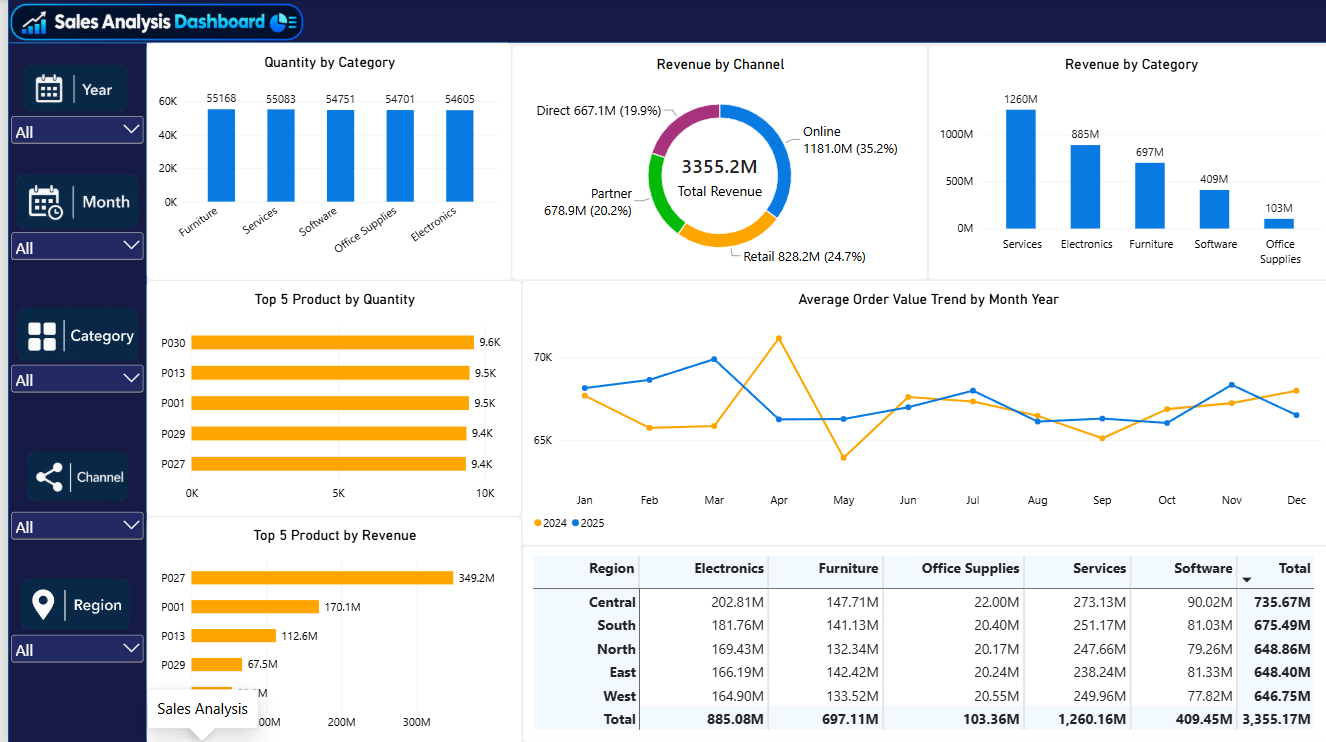

Layout of this report page (visuals, bound fields, positions):
{"tool":"powerbi","page":{"name":"Sales Analysis","canvas":[1920,1080],"ordinal":1},"visuals":[{"type":"shape","box":[0,64.1,200.9,1017],"z":0},{"type":"shape","box":[0,0,1920.1,63.3],"z":1000},{"type":"columnChart","title":" Revenue by Category","fields":{"Y":["Sales.Total Revenue"],"Category":["finance products.Category"]},"box":[1331.9,67,588.1,340.2],"z":2000},{"type":"donutChart","title":" Revenue by Channel","fields":{"Category":["finance sales.Channel"],"Y":["Sales.Total Revenue"]},"box":[729.3,67,602.6,340.2],"z":3000},{"type":"columnChart","title":" Quantity by Category","fields":{"Category":["finance products.Category"],"Y":["Sales.Total Quantity"]},"box":[200.9,63.3,528.4,343.8],"z":4000},{"type":"pivotTable","fields":{"Values":["Sales.Total Revenue"],"Rows":["finance regions.Region"],"Columns":["finance products.Category"]},"box":[743.8,790.8,1176.3,285.9],"z":5000},{"type":"barChart","title":"Top 5 Product by Quantity","fields":{"Y":["Sum(finance sales.Quantity)"],"Category":["finance products.Product_ID"]},"box":[200.9,407.2,542.9,342],"z":6000},{"type":"barChart","title":"Top 5 Product by Revenue","fields":{"Category":["finance products.Product_ID"],"Y":["Sales.Total Revenue"]},"box":[200.9,749.2,542.9,331.2],"z":7000},{"type":"lineChart","title":"Average Order Value Trend by Month Year","fields":{"Y":["Sales.Average Order Value"],"Category":["Calendar.Month"],"Series":["Calendar.Year"]},"box":[743.8,407.2,1176.3,383.6],"z":8000},{"type":"slicer","title":"     ","fields":{"Values":["finance sales.Channel"]},"box":[0,691.3,200.9,117.6],"z":9000},{"type":"slicer","title":"    ","fields":{"Values":["Calendar.Year"]},"box":[0,164.7,200.9,59.7],"z":10000},{"type":"slicer","title":"Month","fields":{"Values":["Calendar.Month"]},"box":[0,333,200.9,56.1],"z":11000},{"type":"slicer","title":"Category","fields":{"Values":["finance products.Category"]},"box":[0,524.8,200.9,54.3],"z":12000},{"type":"image","box":[0,653.3,200.9,74.2],"z":13000},{"type":"image","box":[0,94.1,195.4,70.6],"z":14000},{"type":"image","box":[0,251.5,200.9,81.4],"z":15000},{"type":"image","box":[0,445.2,200.9,79.6],"z":16000},{"type":"slicer","title":"     ","fields":{"Values":["finance regions.Region"]},"box":[0,915.7,200.9,54.3],"z":17000},{"type":"image","box":[0,837.9,195.4,77.8],"z":18000},{"type":"image","box":[0,5.4,430.7,56.1],"z":19000}]}

Visuals, with their boxes in screenshot pixels (x1, y1, x2, y2), scaled from the page's 1920x1080 canvas onto the 1326x742 screenshot:
shape: bbox=[0, 44, 139, 741]
shape: bbox=[0, 0, 1325, 43]
" Revenue by Category" columnChart: bbox=[920, 46, 1325, 280]
" Revenue by Channel" donutChart: bbox=[504, 46, 920, 280]
" Quantity by Category" columnChart: bbox=[139, 43, 504, 280]
pivotTable - Sales.Total Revenue x finance regions.Region: bbox=[514, 543, 1325, 740]
"Top 5 Product by Quantity" barChart: bbox=[139, 280, 514, 515]
"Top 5 Product by Revenue" barChart: bbox=[139, 515, 514, 741]
"Average Order Value Trend by Month Year" lineChart: bbox=[514, 280, 1325, 543]
"     " slicer: bbox=[0, 475, 139, 556]
"    " slicer: bbox=[0, 113, 139, 154]
"Month" slicer: bbox=[0, 229, 139, 267]
"Category" slicer: bbox=[0, 361, 139, 398]
image: bbox=[0, 449, 139, 500]
image: bbox=[0, 65, 135, 113]
image: bbox=[0, 173, 139, 229]
image: bbox=[0, 306, 139, 361]
"     " slicer: bbox=[0, 629, 139, 666]
image: bbox=[0, 576, 135, 629]
image: bbox=[0, 4, 297, 42]
